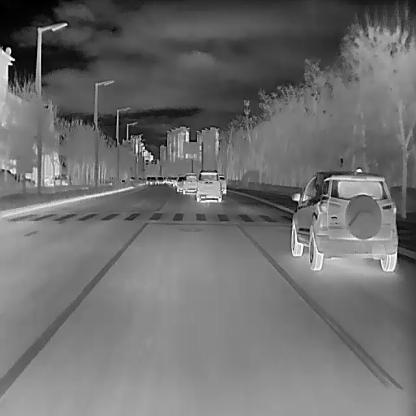car: (291, 170, 397, 271), (196, 169, 221, 201), (0, 167, 35, 185), (182, 172, 198, 194), (50, 173, 68, 185), (176, 173, 185, 191), (218, 173, 226, 193), (150, 175, 156, 185), (157, 175, 163, 183)
